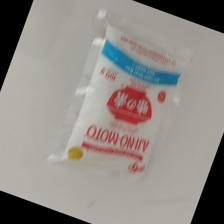Ajinomoto: (59, 20, 193, 203)
